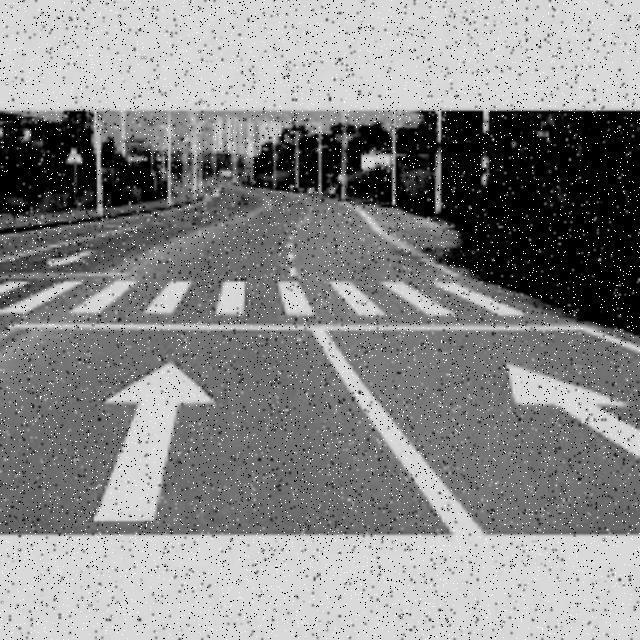crosswalk: (5, 278, 528, 316)
